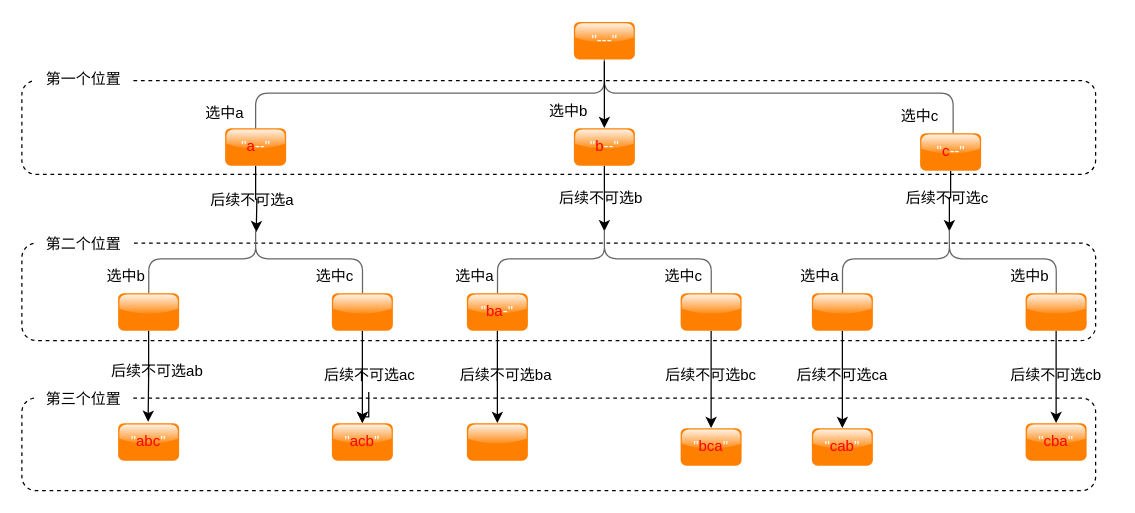
The diagram is 1135 pixels wide and 513 high, and some of its shapes have lost their labels. Each missing label, with the box of its shape:
" ab -": (118, 292, 178, 330)
" ac -": (331, 292, 392, 330)
" bac ": (466, 422, 527, 460)
" bc -": (680, 292, 741, 330)
" ca -": (811, 292, 872, 330)
" cb -": (1025, 292, 1086, 330)
